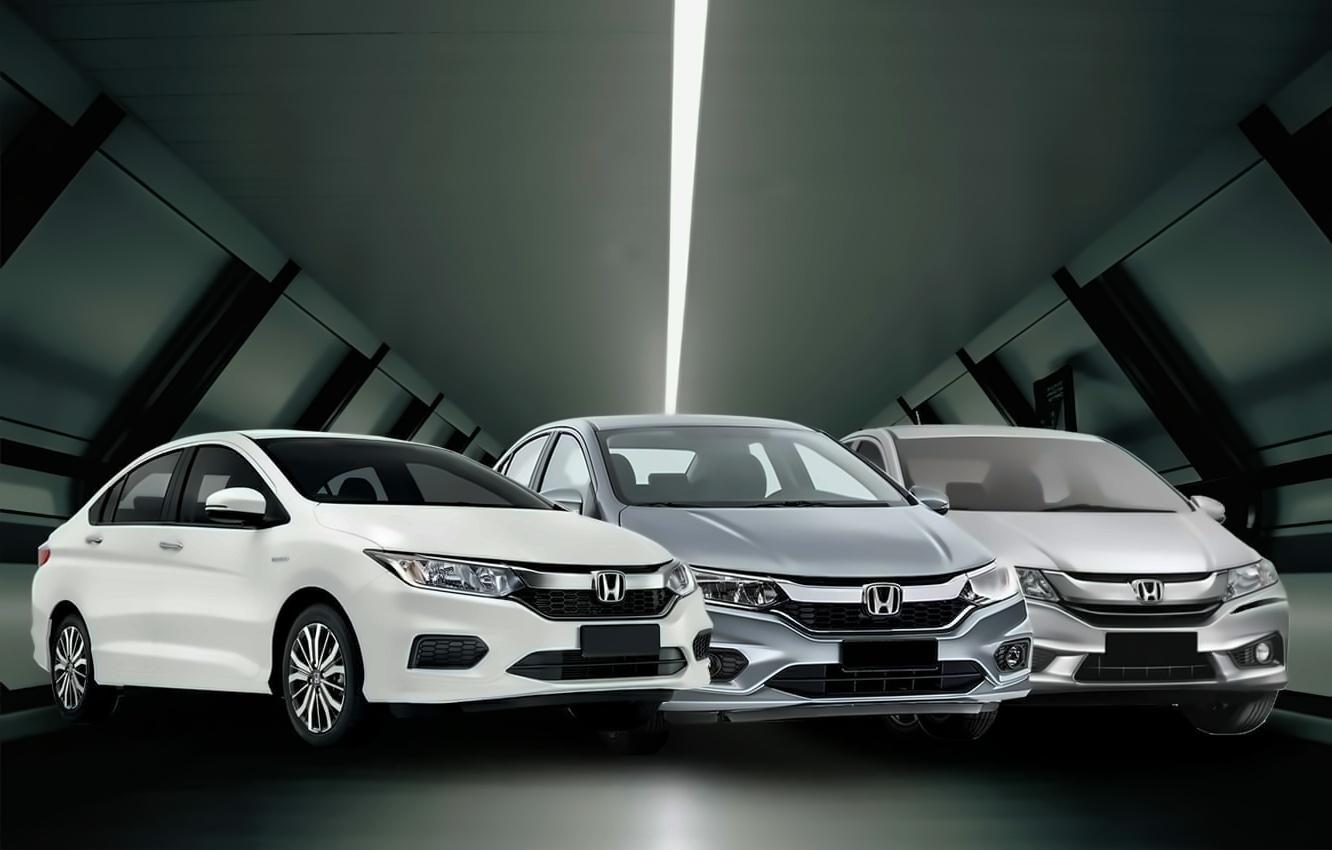Car hood: (617, 499, 997, 583), (309, 502, 676, 573), (934, 507, 1269, 576)
Driver-s door - -F-R-: (147, 434, 274, 682)
Fender - -F-R-: (262, 483, 389, 623)
Front bumper: (361, 656, 720, 724), (706, 673, 1036, 730), (1027, 649, 1299, 703)
Headlight - -L-: (959, 557, 1026, 608), (1222, 559, 1284, 604), (662, 559, 700, 595)
Headlight - -R-: (364, 547, 531, 599), (684, 559, 791, 618), (1014, 563, 1066, 611)
Passenger-s door - -R-R-: (79, 434, 175, 687)
Rear bumper: (22, 596, 55, 678)
Rear light - -R-: (29, 543, 62, 570)
Side bumper - -R-: (83, 660, 283, 710)
Side mirror - -L-: (1189, 487, 1235, 526), (909, 484, 956, 517)
Side mirror - -R-: (203, 484, 271, 523), (537, 486, 592, 517)
